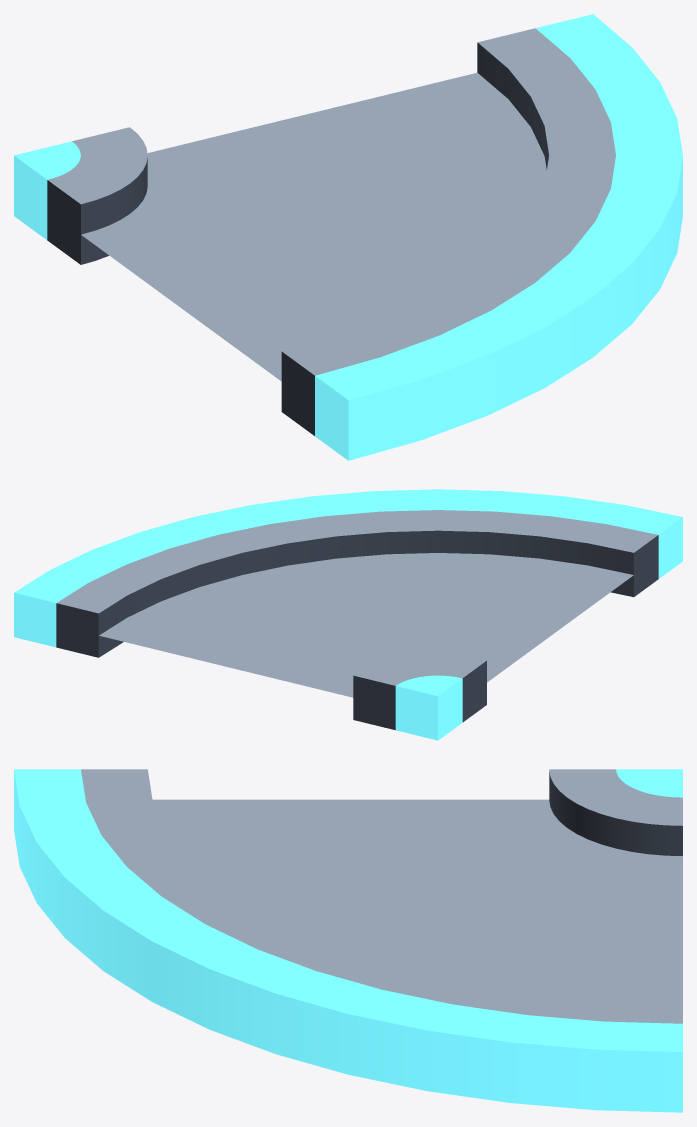
Rendered from platform_cornerRound.glb.
The picture shows the model from 3 angles, top to bottom: view 1: azimuth 30°, elevation 25°; view 2: azimuth 150°, elevation 25°; view 3: azimuth 270°, elevation 25°; orthographic projection. The views are drawn at different scales.
Parts seen in each view (by area): view 1: platform_cornerRound; view 2: platform_cornerRound; view 3: platform_cornerRound.
Boxes of the visible parts, x1,y1,x2,y2 form: platform_cornerRound: (14, 14, 682, 460); platform_cornerRound: (14, 489, 682, 740); platform_cornerRound: (14, 769, 682, 1112).
Size of the model in its own units: 1 by 0.1 by 1.
